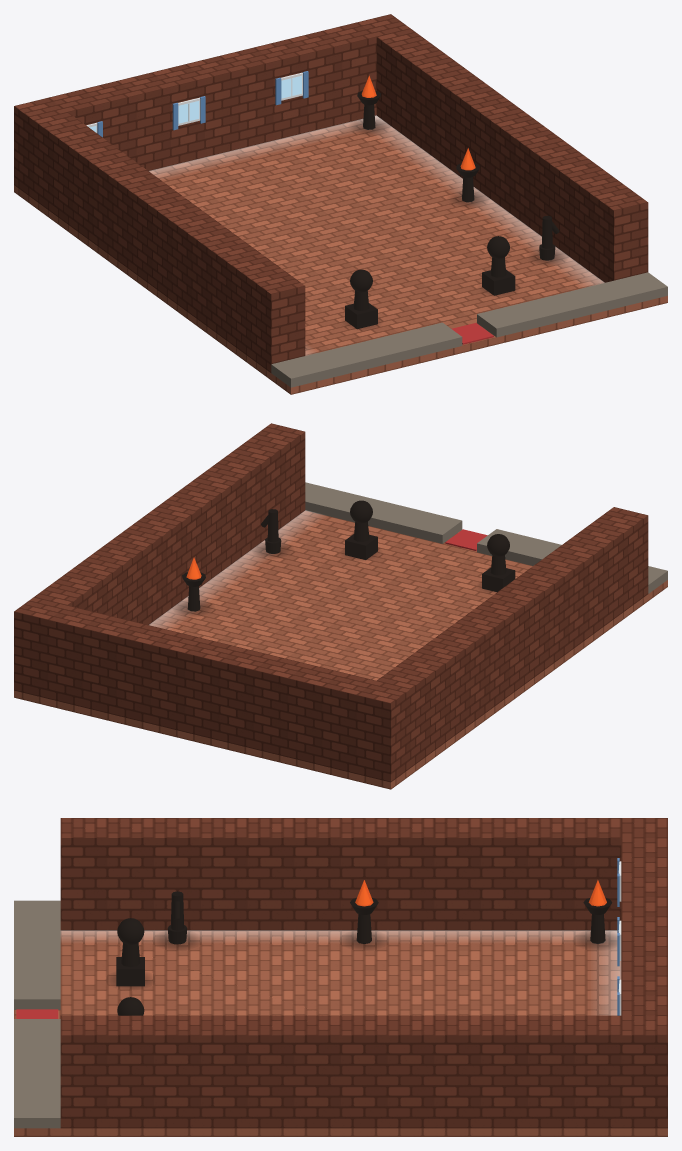
File: ginasio3.glb
3 views of the same model, one above another, from view 1: azimuth 30°, elevation 25°; view 2: azimuth 150°, elevation 25°; view 3: azimuth 270°, elevation 25° (orthographic). The views are drawn at different scales.
Visible parts, largest first — view 1: malha__semsombra (×46), malha__contorno (×2); view 2: malha__semsombra (×42), malha__contorno (×2); view 3: malha__semsombra (×46), malha__contorno (×2).
Part boxes in pixels (bbox=[...]): malha__semsombra (×46): bbox=[14, 14, 667, 394]; malha__contorno (×2): bbox=[345, 269, 515, 329]; malha__semsombra (×42): bbox=[14, 423, 667, 789]; malha__contorno (×2): bbox=[345, 534, 515, 592]; malha__semsombra (×46): bbox=[14, 818, 667, 1136]; malha__contorno (×2): bbox=[116, 918, 144, 986].
Bounding box in the file's own units: 11 × 2.4 × 14.
38 materials, 11 textured.
